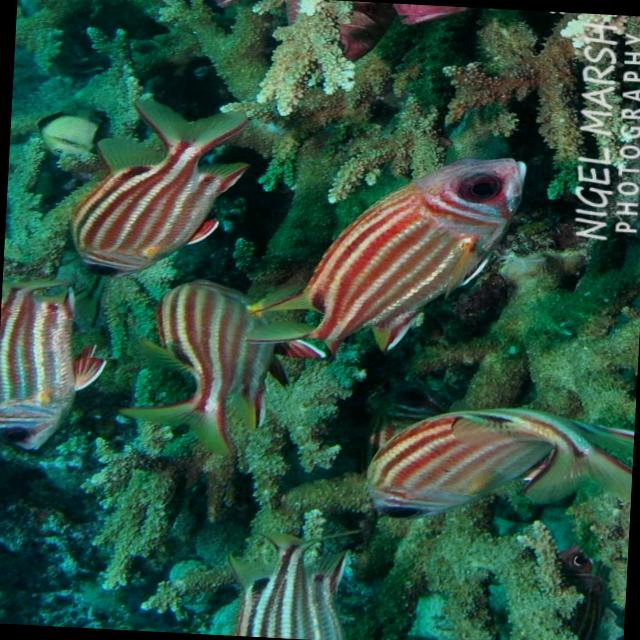Asker Baligi: (228, 133, 546, 377), (2, 79, 266, 298), (338, 392, 636, 548), (0, 250, 116, 470)
